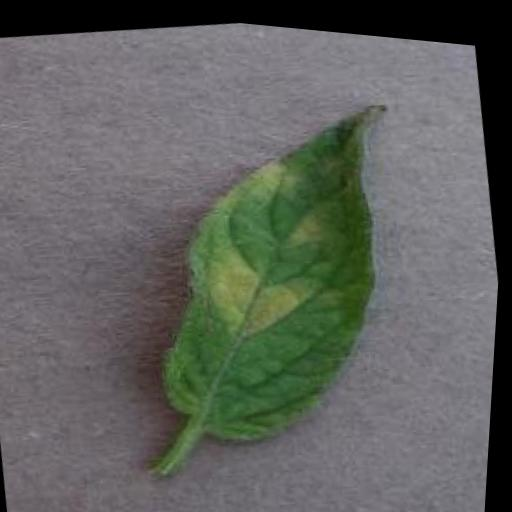Leaf Mold: (123, 74, 442, 463)
